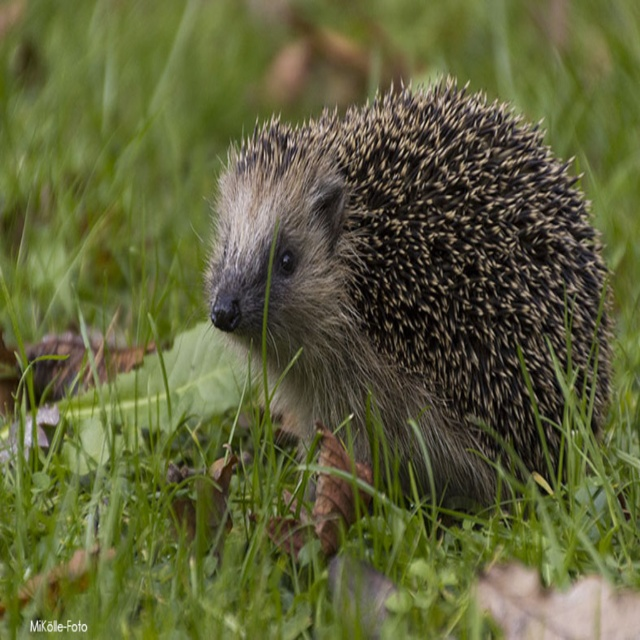Hedgehog: (176, 74, 620, 512)
